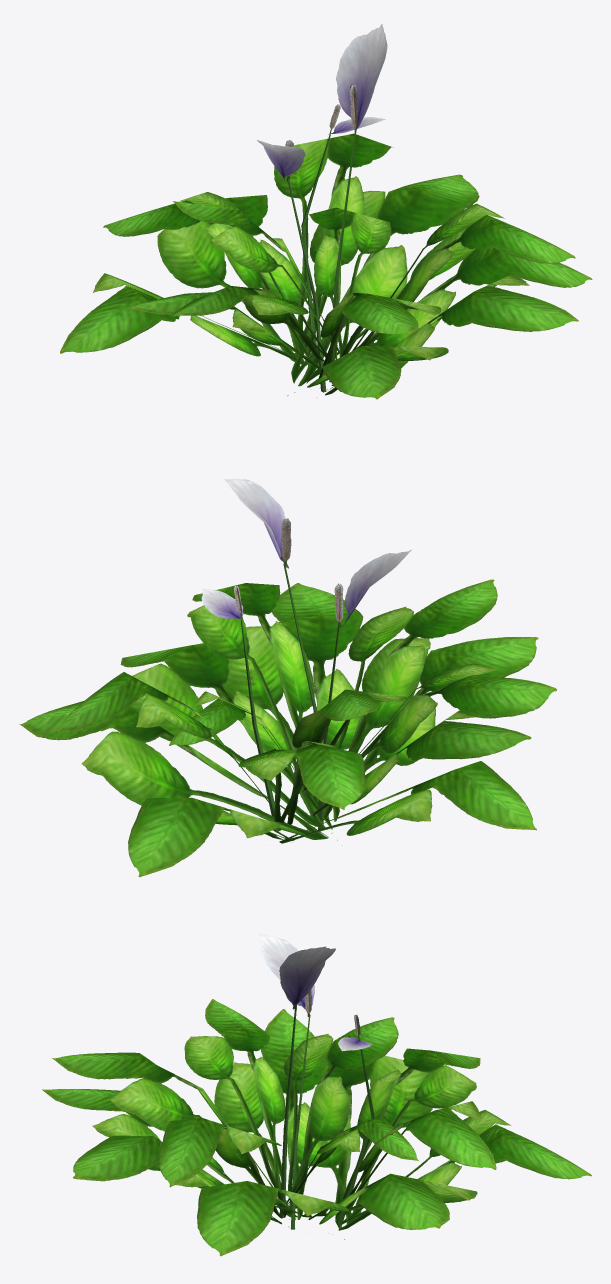
File: wm_灌木洛阳城大灌07.fbx
3 views of the same model, one above another, from view 1: azimuth 30°, elevation 25°; view 2: azimuth 150°, elevation 25°; view 3: azimuth 270°, elevation 25° (orthographic). The views are drawn at different scales.
Parts seen in each view (by area): view 1: wm_灌木洛阳城大灌07; view 2: wm_灌木洛阳城大灌07; view 3: wm_灌木洛阳城大灌07.
Boxes of the visible parts, bbox=[...] form: wm_灌木洛阳城大灌07: bbox=[60, 24, 592, 399]; wm_灌木洛阳城大灌07: bbox=[19, 478, 556, 877]; wm_灌木洛阳城大灌07: bbox=[42, 933, 591, 1256].
Bounding box in the file's own units: 210 × 139 × 226.
